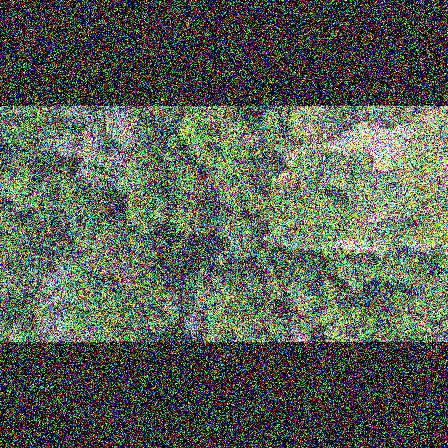Dead: (42, 256, 68, 315), (38, 134, 88, 163), (104, 112, 140, 150), (42, 317, 92, 342), (51, 107, 101, 129), (77, 166, 120, 191), (181, 306, 207, 342)
